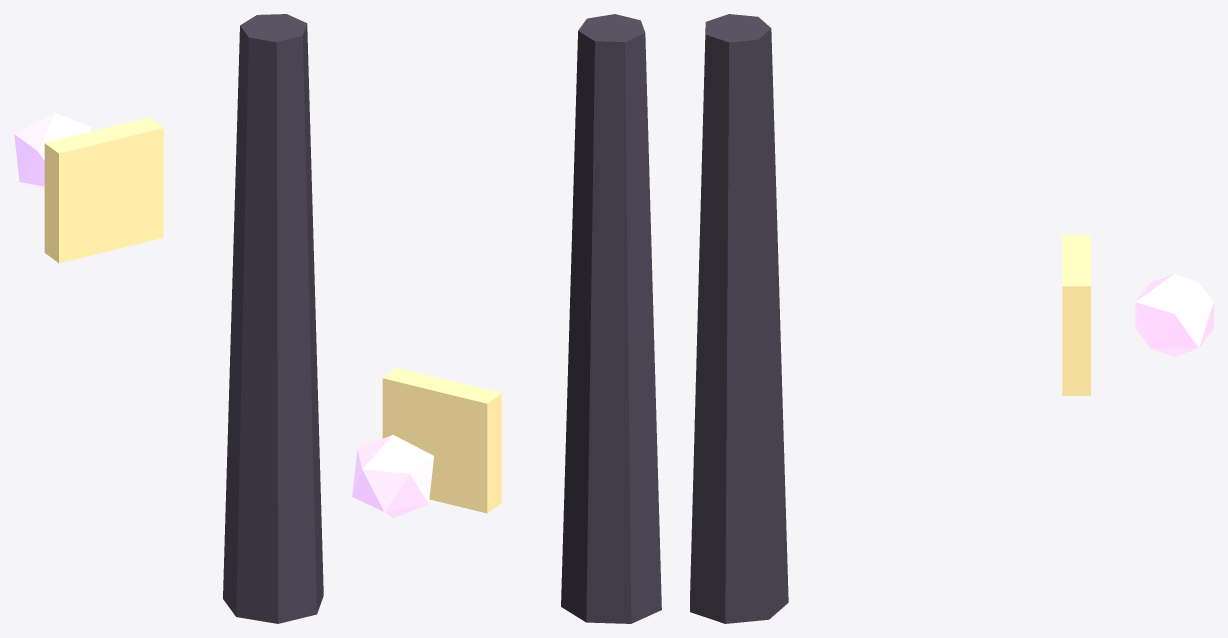
File: lantern_pillar.glb
The picture shows the model from 3 angles, left to right: view 1: azimuth 30°, elevation 25°; view 2: azimuth 150°, elevation 25°; view 3: azimuth 270°, elevation 25°; orthographic projection.
Parts seen in each view (by area): view 1: post, cap, flame; view 2: post, cap, flame; view 3: post, flame, cap.
Part boxes in pixels (x1,y1,x2,y2): post: [223, 14, 323, 623]; cap: [44, 117, 163, 263]; flame: [14, 113, 91, 191]; post: [561, 14, 661, 623]; cap: [382, 367, 501, 513]; flame: [352, 435, 433, 518]; post: [690, 14, 788, 623]; flame: [1135, 273, 1213, 356]; cap: [1062, 235, 1090, 395].
Bounding box in the file's own units: 0.42 × 2.2 × 1.82.
